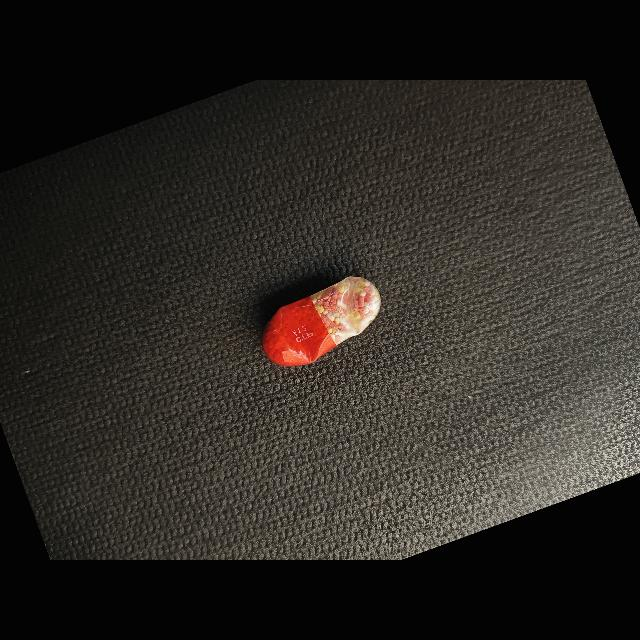Defective Capsule: (262, 276, 381, 366)
